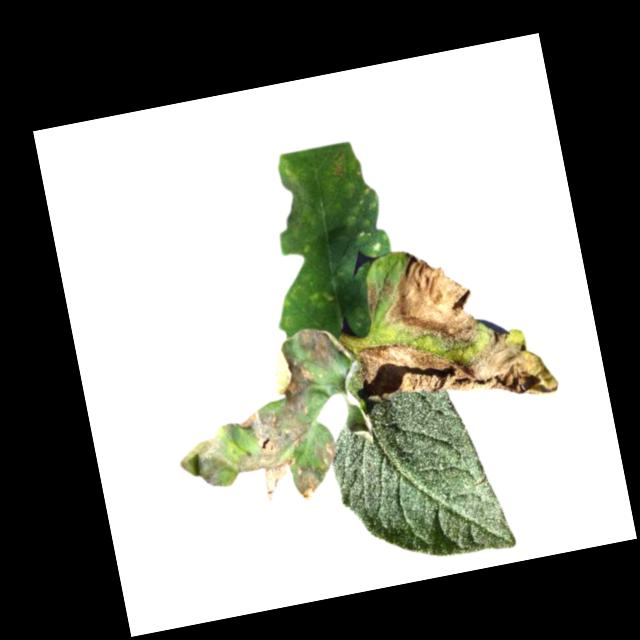Late_blight: (354, 311, 561, 430), (172, 400, 344, 524), (377, 245, 482, 356), (264, 338, 321, 422), (293, 320, 349, 378), (275, 152, 305, 195), (326, 148, 353, 180), (362, 281, 383, 315), (309, 287, 338, 311)
healthy: (322, 377, 518, 579)
